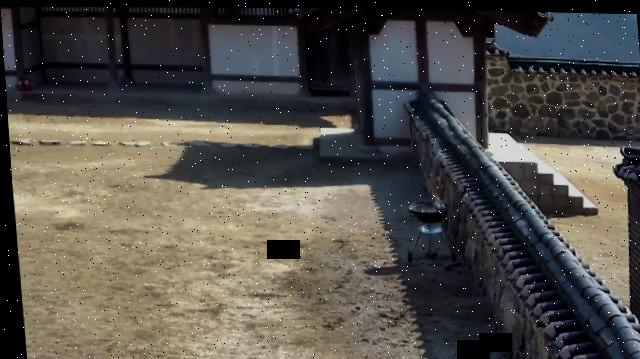smoke: (420, 167, 447, 210)
